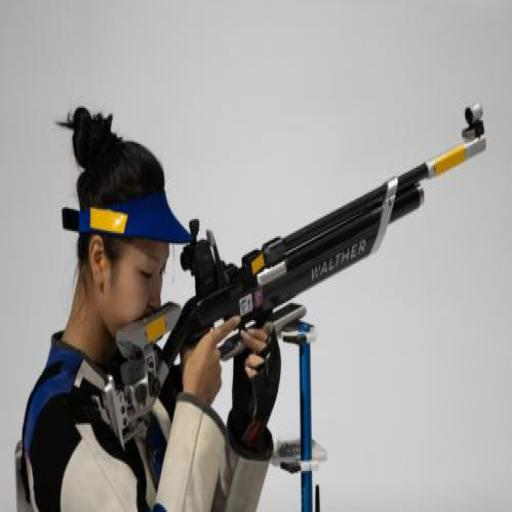shooting: (17, 103, 277, 510)
